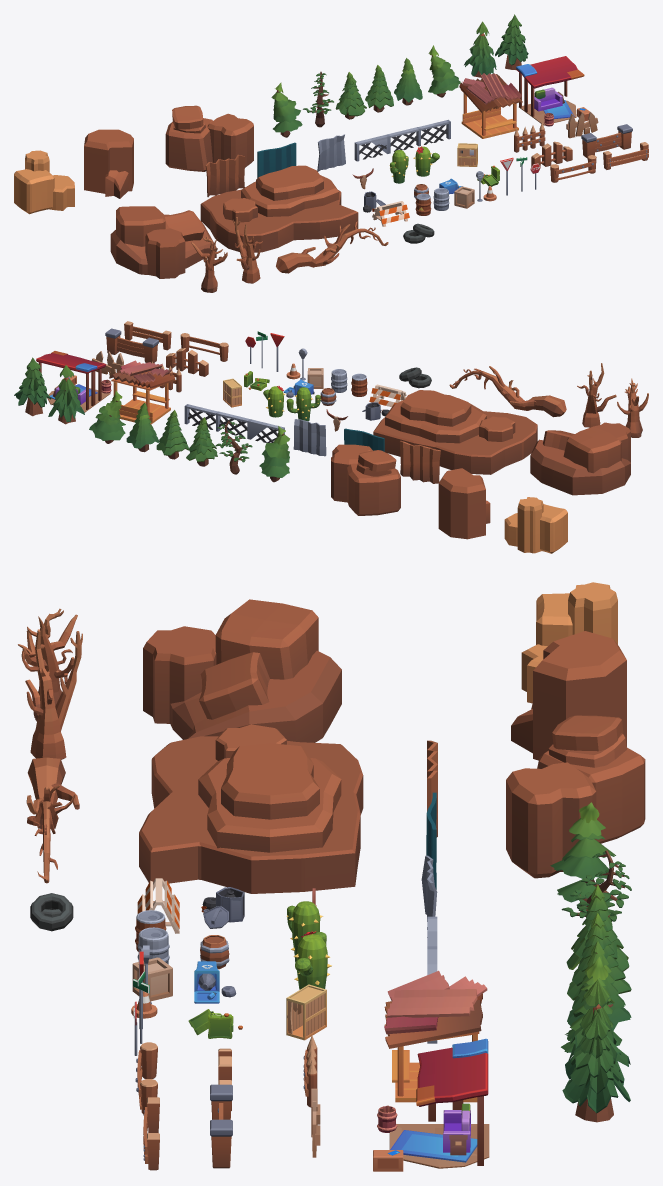
File: DessertAsset.fbx
3 renders of one model, top to bottom at view 1: azimuth 30°, elevation 25°; view 2: azimuth 150°, elevation 25°; view 3: azimuth 270°, elevation 25°, orthographic. The views are drawn at different scales.
Visible parts, largest first — view 1: Cube.022, Cube.026, Cube.020, Cube.019, Cube.018, Plane.013, Cube.112, Cube.140, Cube.139, Cube.138, Plane.016, Cube.098 (+10 smaller); view 2: Cube.022, Cube.026, Cube.020, Cube.019, Cube.018, Plane.013, Cube.139, Cube.138, Cube.112, Cube.140, Cube.135, Plane.016 (+10 smaller); view 3: Cube.022, Cube.026, Cube.020, Cube.019, Cube.018, Plane.013, Cube.111, Cube.098, Plane.010, Cube.112, Cube.139, Cube.135 (+11 smaller).
Part boxes in pixels (left/top/right/bottom): Cube.022: left=200, top=165, right=358, bottom=252; Cube.026: left=110, top=206, right=216, bottom=278; Cube.020: left=165, top=105, right=253, bottom=171; Cube.019: left=84, top=129, right=133, bottom=198; Cube.018: left=14, top=150, right=74, bottom=214; Plane.013: left=459, top=74, right=522, bottom=135; Cube.112: left=516, top=62, right=558, bottom=116; Cube.140: left=335, top=72, right=366, bottom=119; Cube.139: left=365, top=65, right=393, bottom=112; Cube.138: left=394, top=58, right=422, bottom=105; Plane.016: left=205, top=154, right=245, bottom=179; Cube.098: left=542, top=56, right=584, bottom=96; Cube.022: left=373, top=390, right=537, bottom=474; Cube.026: left=530, top=422, right=630, bottom=495; Cube.020: left=331, top=444, right=400, bottom=515; Cube.019: left=438, top=468, right=490, bottom=539; Cube.018: left=504, top=497, right=567, bottom=553; Plane.013: left=109, top=360, right=174, bottom=418; Cube.139: left=156, top=410, right=189, bottom=459; Cube.138: left=126, top=403, right=159, bottom=452; Cube.112: left=62, top=357, right=105, bottom=409; Cube.140: left=186, top=417, right=217, bottom=466; Cube.135: left=215, top=420, right=252, bottom=474; Plane.016: left=399, top=440, right=440, bottom=464; Cube.022: left=139, top=724, right=363, bottom=893; Cube.026: left=143, top=599, right=341, bottom=742; Cube.020: left=506, top=715, right=645, bottom=878; Cube.019: left=511, top=631, right=626, bottom=760; Cube.018: left=521, top=582, right=617, bottom=703; Plane.013: left=384, top=976, right=487, bottom=1096; Cube.111: left=389, top=1124, right=489, bottom=1168; Cube.098: left=416, top=1065, right=488, bottom=1165; Plane.010: left=387, top=989, right=477, bottom=1017; Cube.112: left=417, top=1038, right=488, bottom=1121; Cube.139: left=567, top=913, right=631, bottom=1000; Cube.135: left=561, top=850, right=631, bottom=921.
Bounding box in the file's own units: 4508 × 581 × 2322.
Materials: 2 (2 with a texture image).
